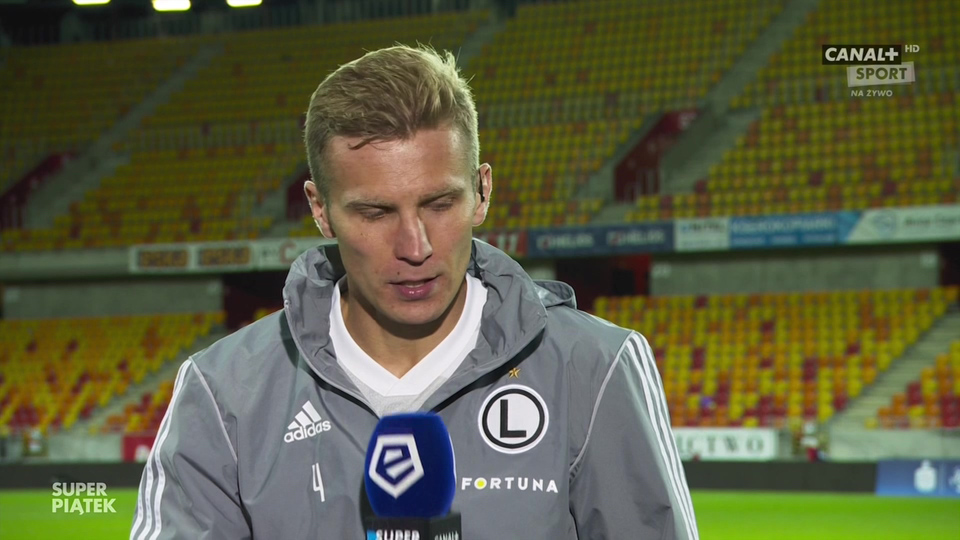Adidas: (278, 399, 333, 444)
